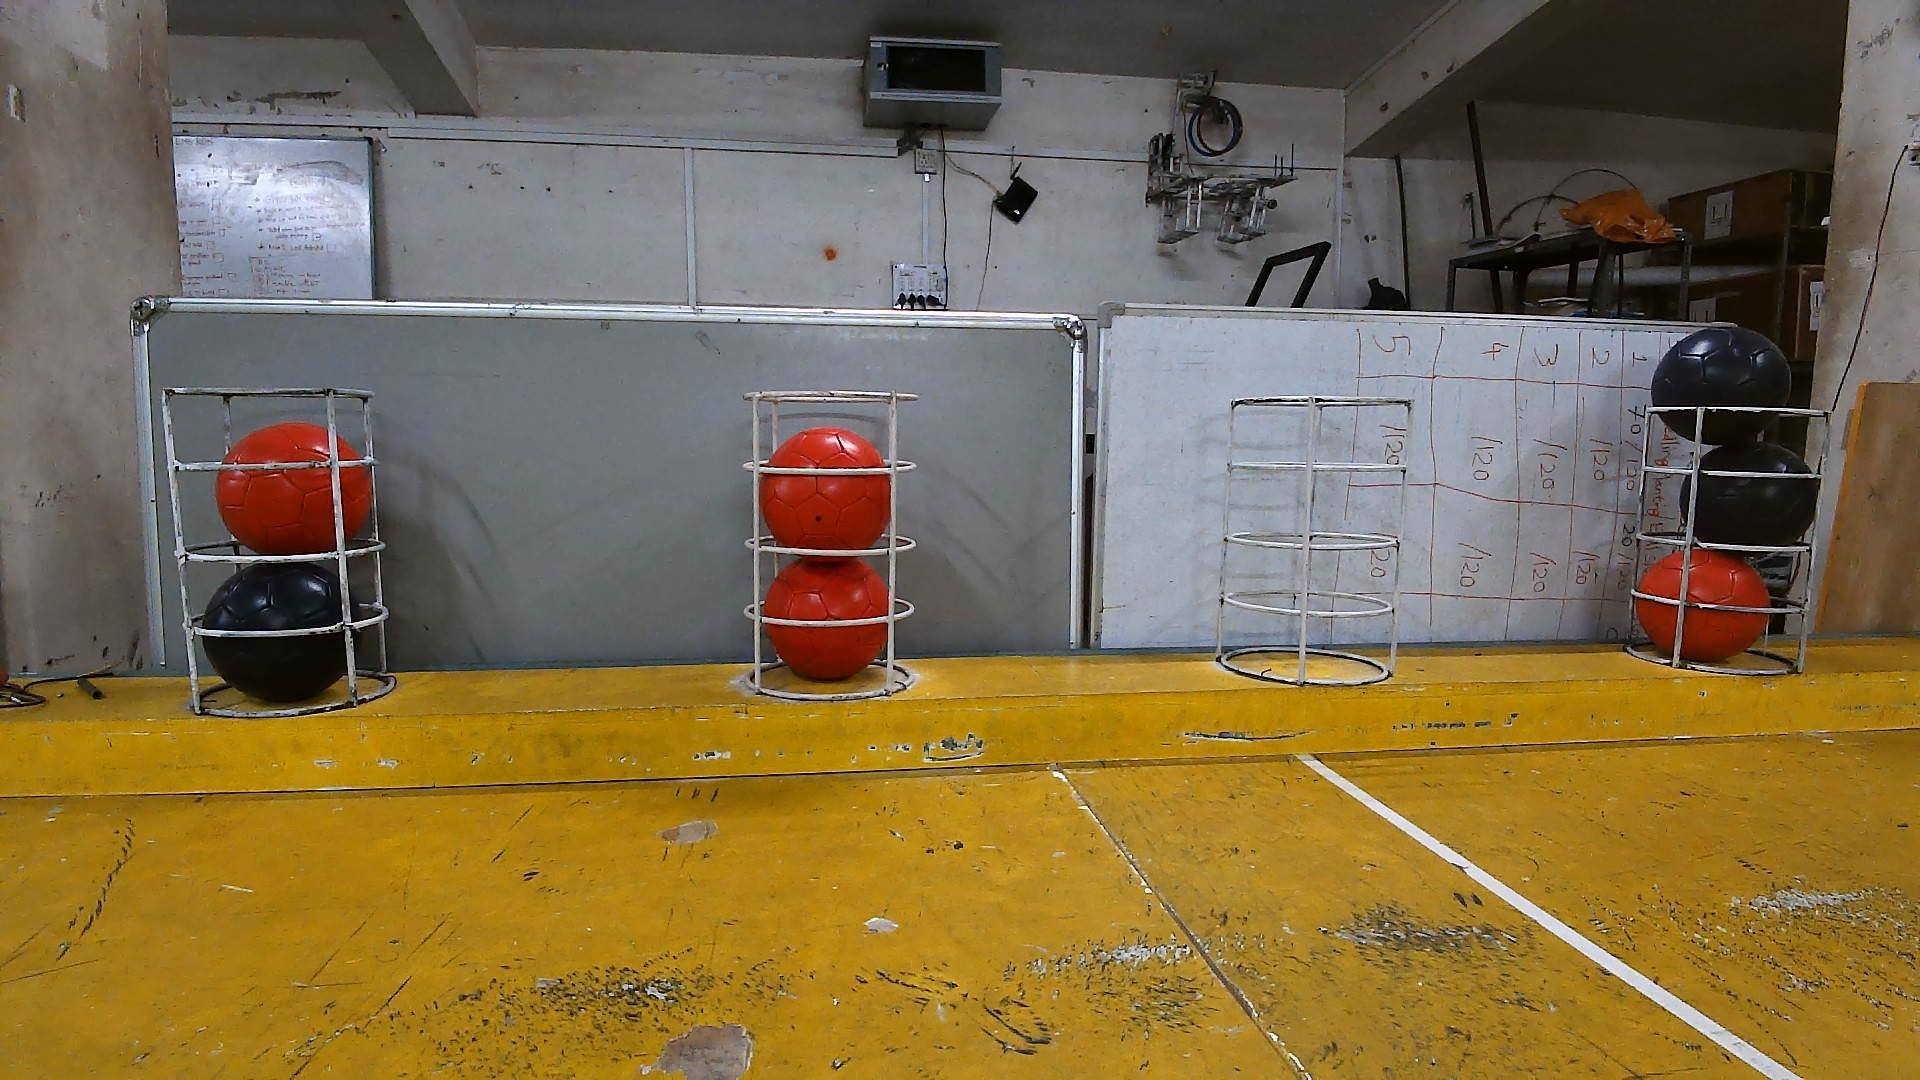dhoka: (196, 566, 359, 700), (1650, 323, 1792, 446), (1676, 439, 1818, 547)
laale: (214, 419, 372, 555), (757, 427, 889, 550), (761, 559, 889, 683), (1635, 547, 1770, 661)
